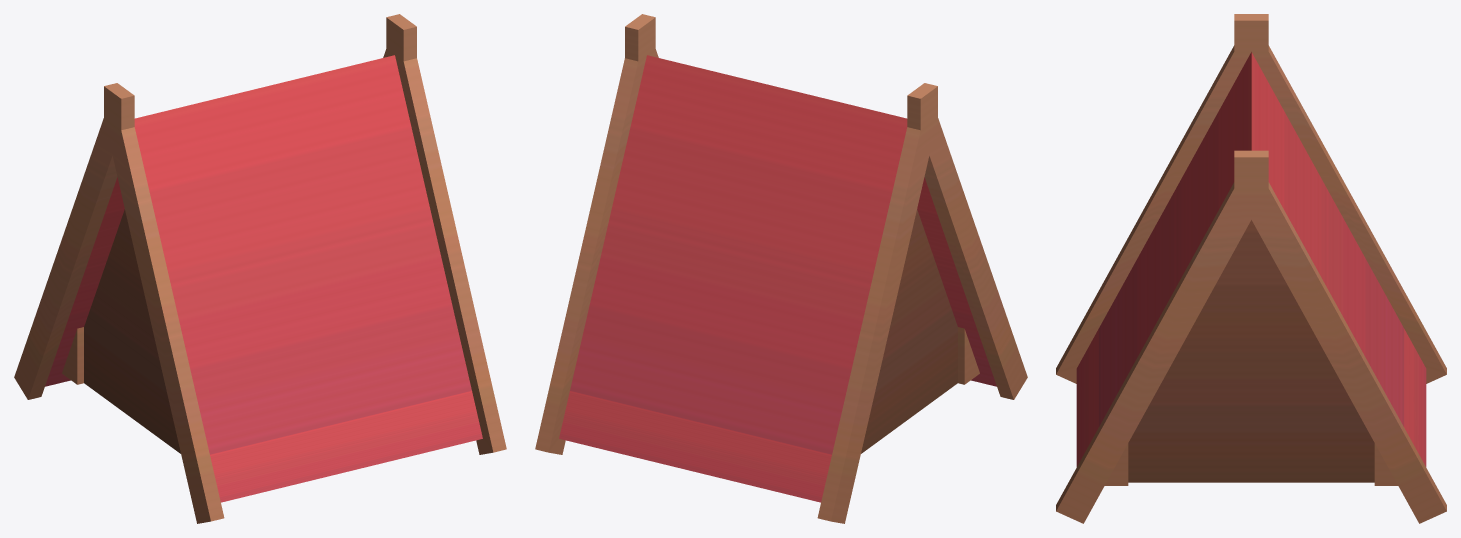
File: roof-high-gable-detail.glb
3 views of the same model, side by side, from view 1: azimuth 30°, elevation 25°; view 2: azimuth 150°, elevation 25°; view 3: azimuth 270°, elevation 25° (orthographic).
Visible parts, largest first — view 1: roof-high-gable-detail; view 2: roof-high-gable-detail; view 3: roof-high-gable-detail.
Part boxes in pixels (left/top/right/bottom): roof-high-gable-detail: left=14, top=14, right=506, bottom=523; roof-high-gable-detail: left=535, top=14, right=1027, bottom=523; roof-high-gable-detail: left=1056, top=14, right=1446, bottom=523.
Size of the model in its own units: 1.1 by 1.31 by 1.27.
Materials: 1 (1 with a texture image).
